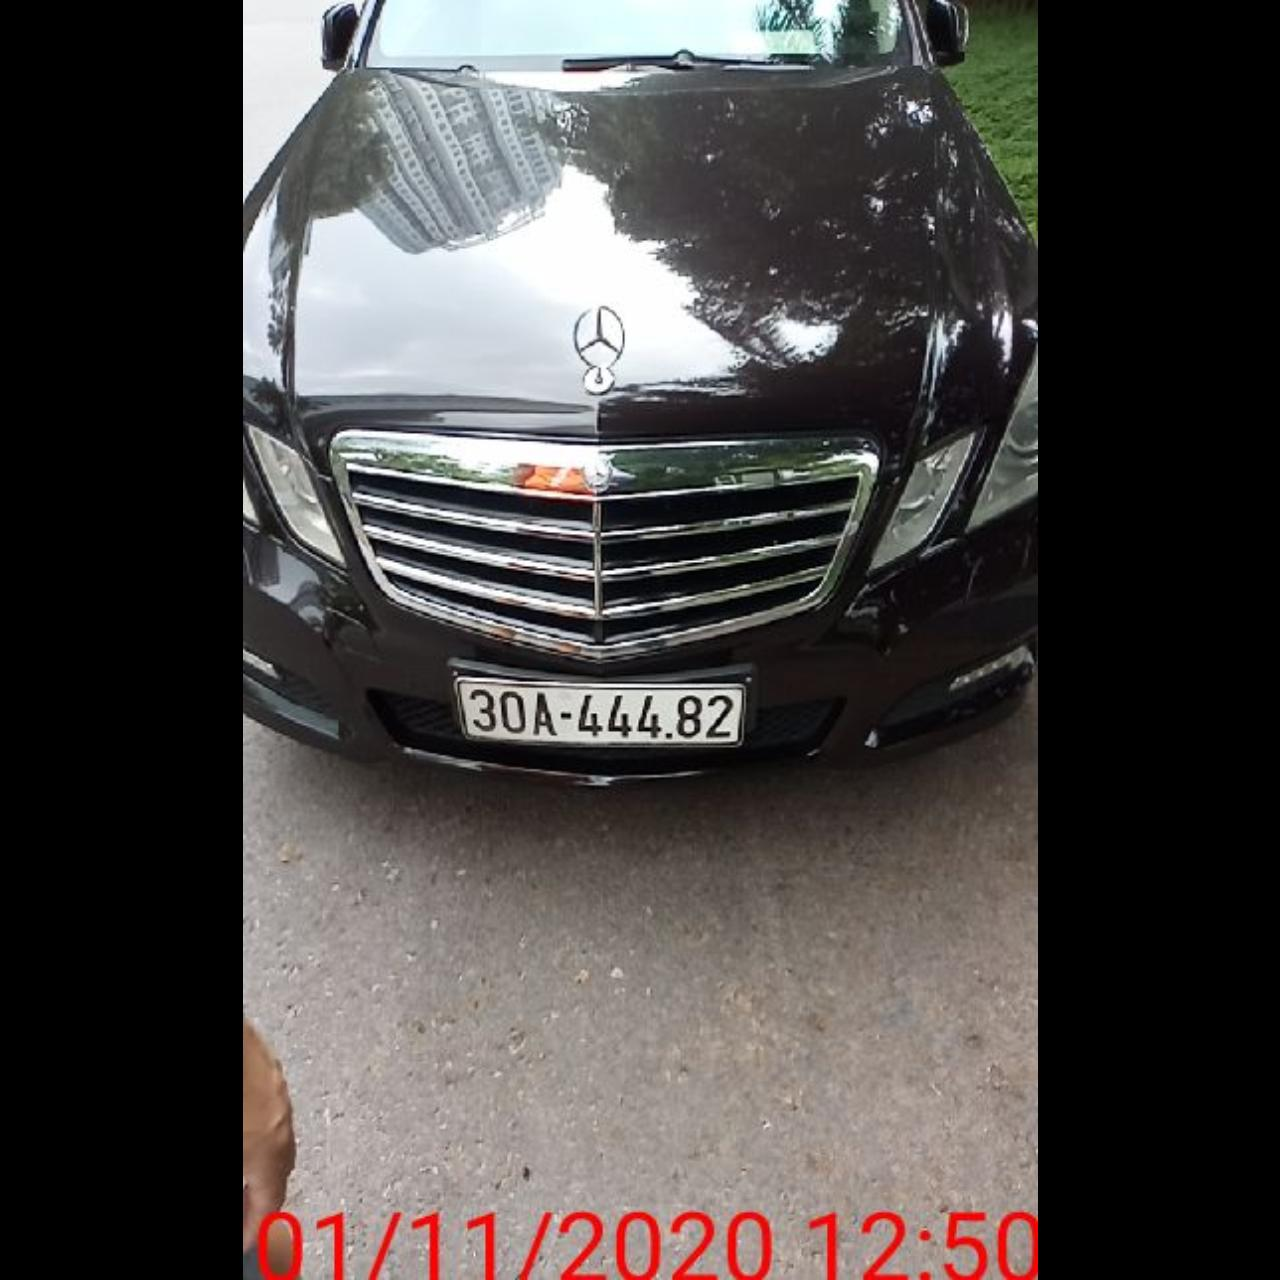bienso: (452, 674, 746, 750)
